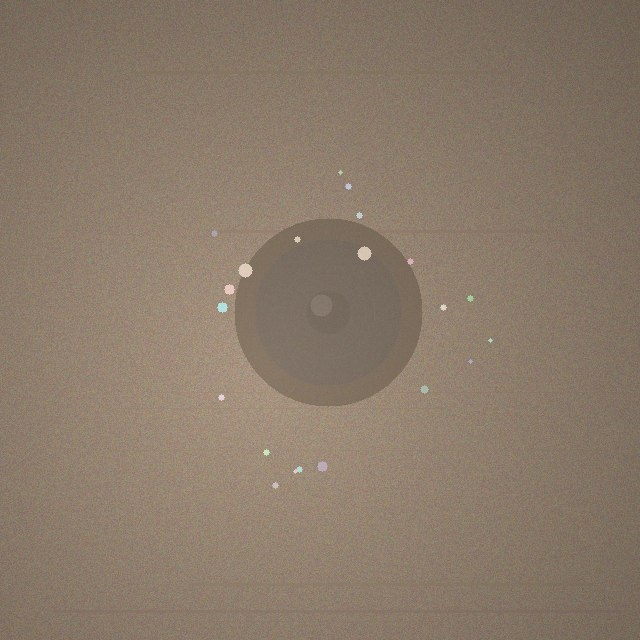overburn: (234, 218, 422, 406)
